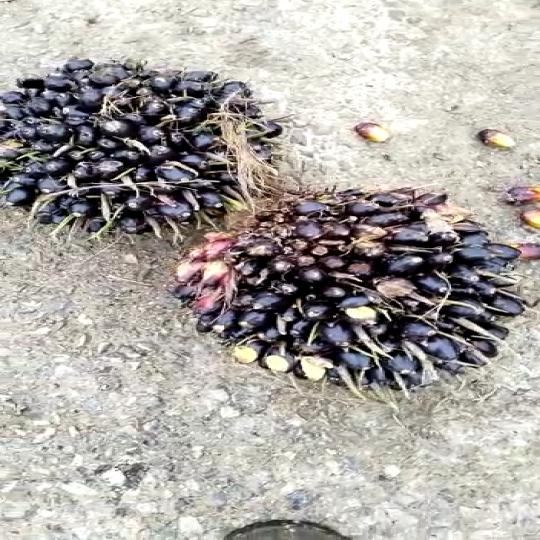mentah: (160, 183, 522, 382), (0, 36, 316, 244)
